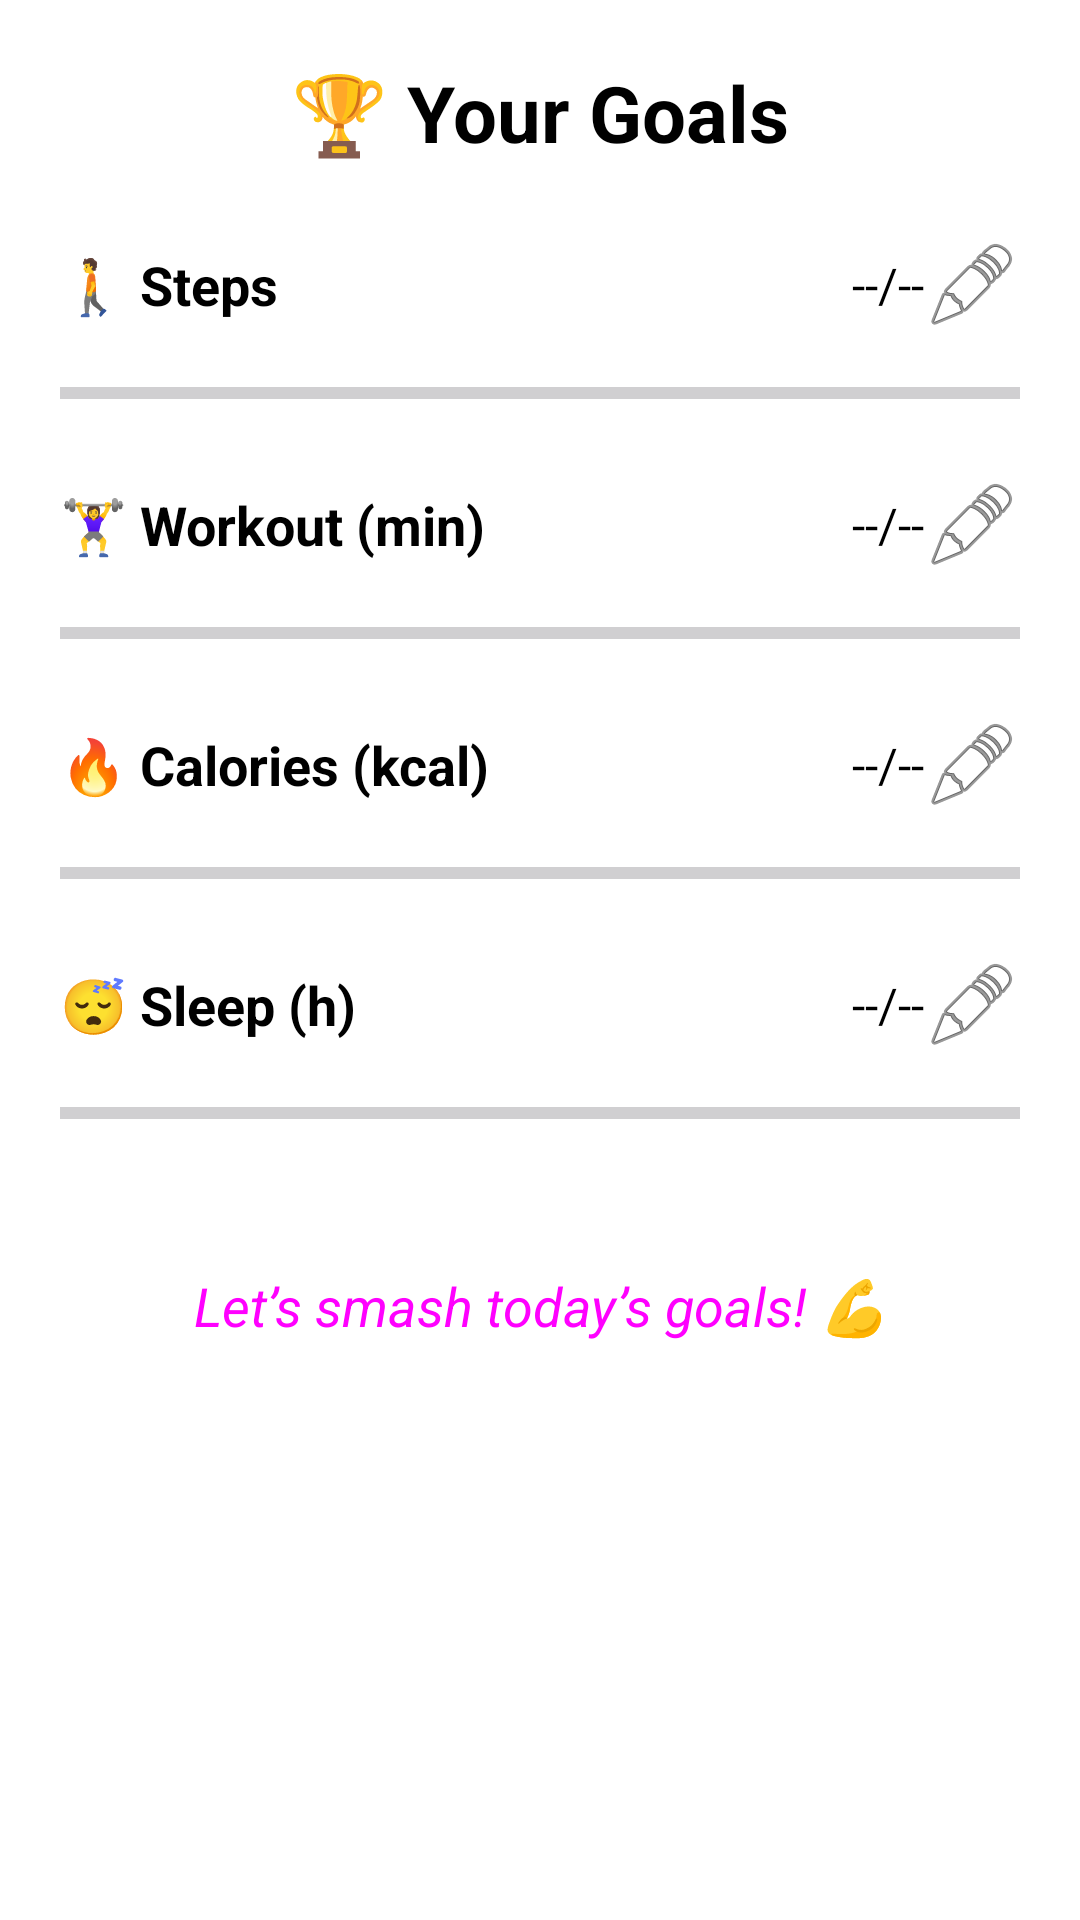

Icons on this 1080×1920 Android screen, each with its box as (x1, y1, x2, y2):
edit: (931, 244, 1012, 325), (931, 484, 1012, 565), (931, 724, 1012, 805), (931, 964, 1012, 1045)
